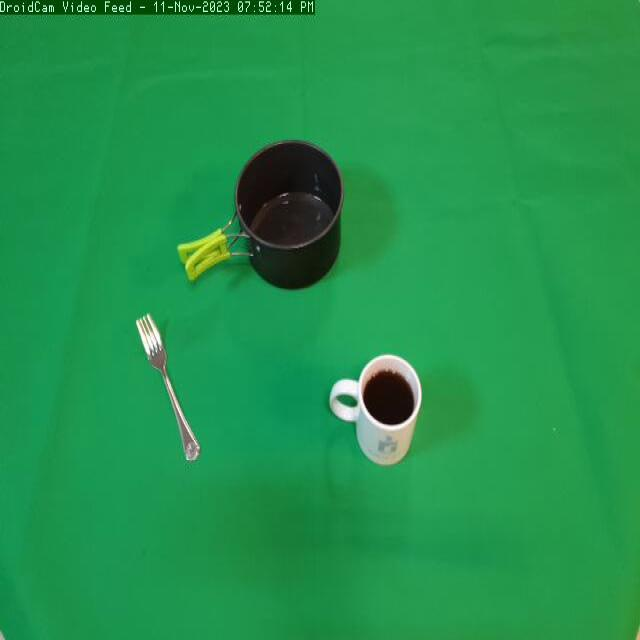fork: (132, 300, 212, 470)
fullcup: (322, 348, 427, 484)
pot: (178, 134, 354, 298)
